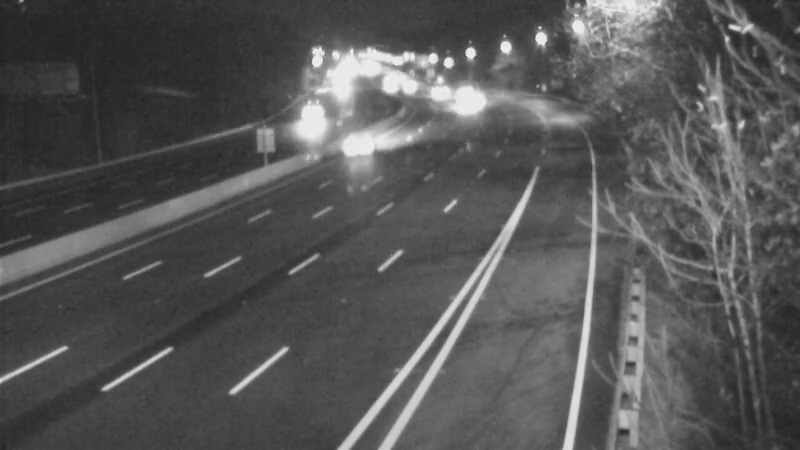vehicle: (379, 59, 429, 109), (365, 63, 415, 113), (416, 73, 466, 123), (436, 65, 486, 115), (455, 79, 505, 129), (432, 81, 482, 131), (335, 117, 385, 167), (279, 102, 329, 152)
